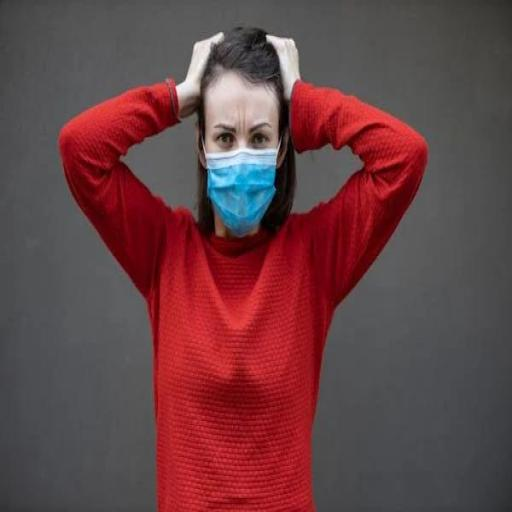mask: (142, 51, 340, 268)
